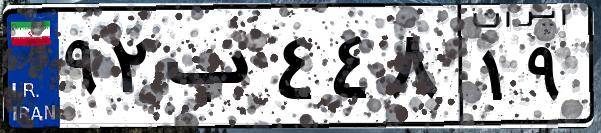1: (475, 38, 525, 113)
2: (110, 28, 158, 98)
4: (270, 28, 330, 110), (330, 28, 385, 110)
8: (385, 28, 445, 110)
9: (57, 26, 110, 100), (525, 38, 570, 115)
ب: (158, 20, 270, 120)
